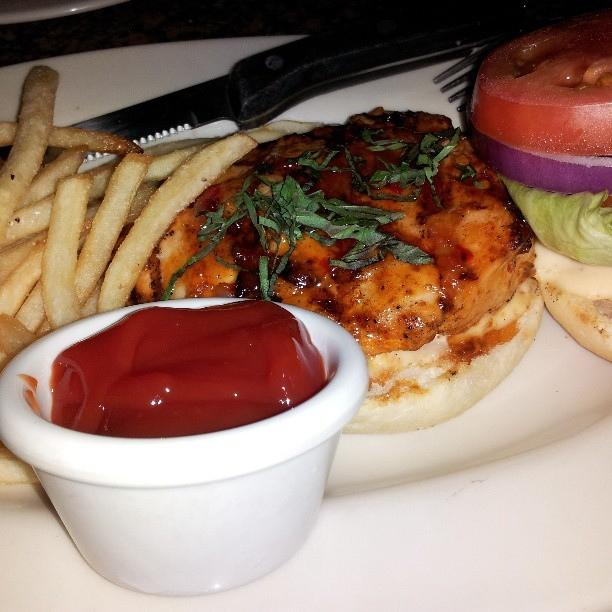lettuce: (498, 175, 610, 267), (280, 210, 434, 264), (424, 166, 441, 208)
onion: (469, 116, 612, 194)
tomato: (470, 13, 610, 156)
